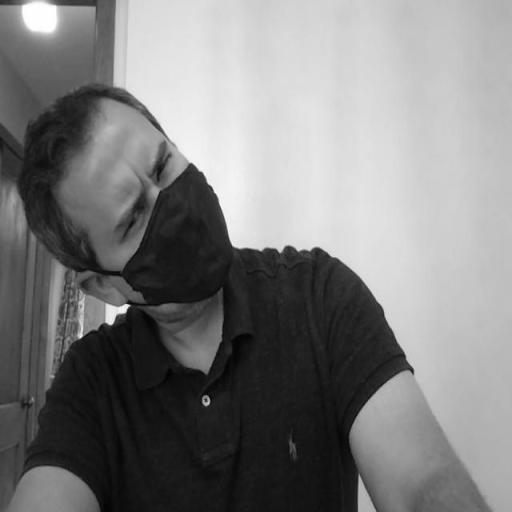mask: (18, 84, 233, 314)
